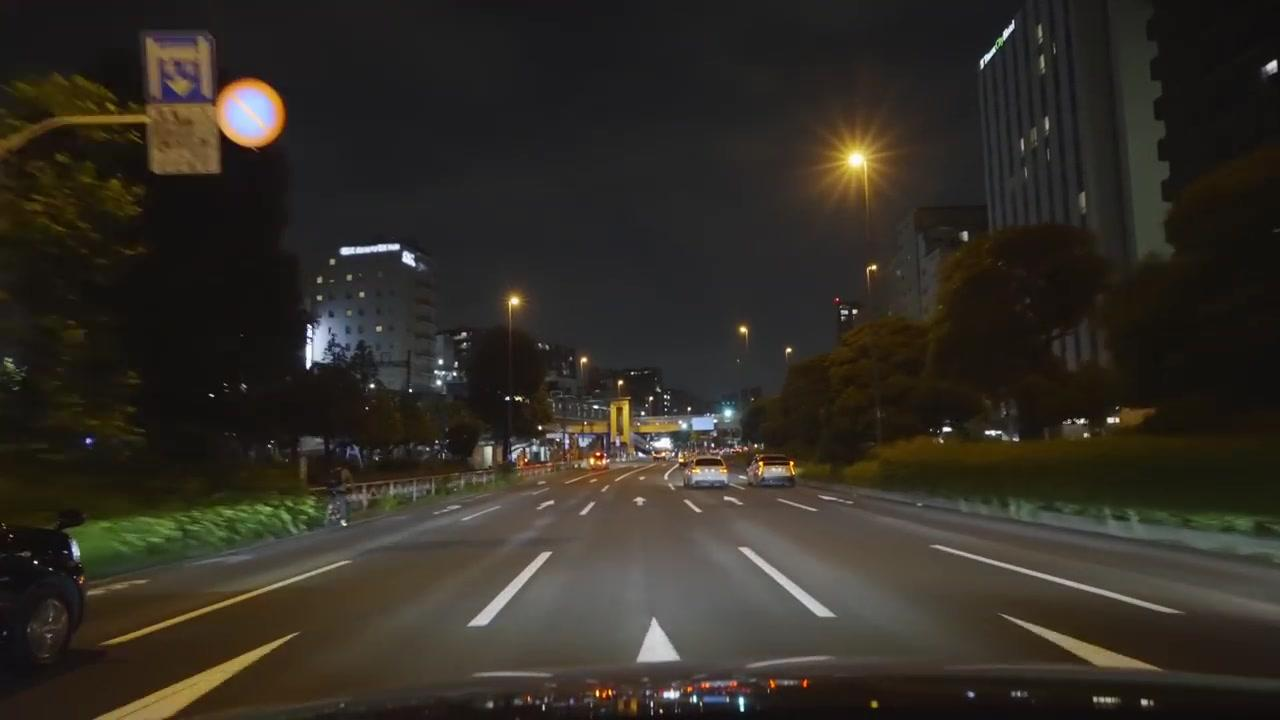car: (0, 518, 89, 668), (748, 452, 797, 488), (686, 455, 729, 489)
person: (325, 470, 350, 527)
